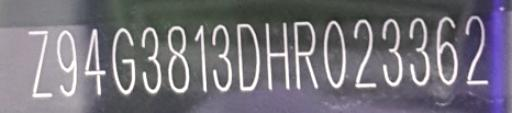letter: (261, 19, 291, 92), (291, 19, 321, 90), (462, 13, 490, 86), (234, 20, 262, 93), (26, 27, 54, 100), (163, 24, 191, 95), (110, 25, 138, 96), (434, 13, 460, 88), (352, 17, 378, 90), (322, 17, 348, 90), (82, 25, 108, 98), (406, 15, 432, 86), (137, 24, 163, 95), (380, 16, 404, 89), (210, 21, 234, 94), (54, 27, 78, 98), (192, 22, 210, 95)
